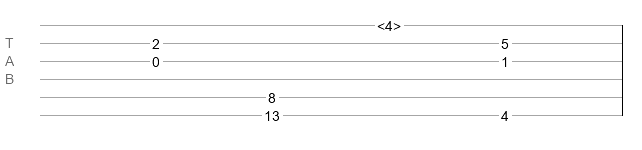0: (152, 54, 160, 64)
1: (501, 54, 509, 64)
13: (264, 108, 280, 118)
2: (152, 36, 160, 46)
4: (501, 108, 509, 118)
5: (501, 36, 509, 46)
8: (268, 90, 276, 100)
harmonic: (377, 18, 401, 28)
